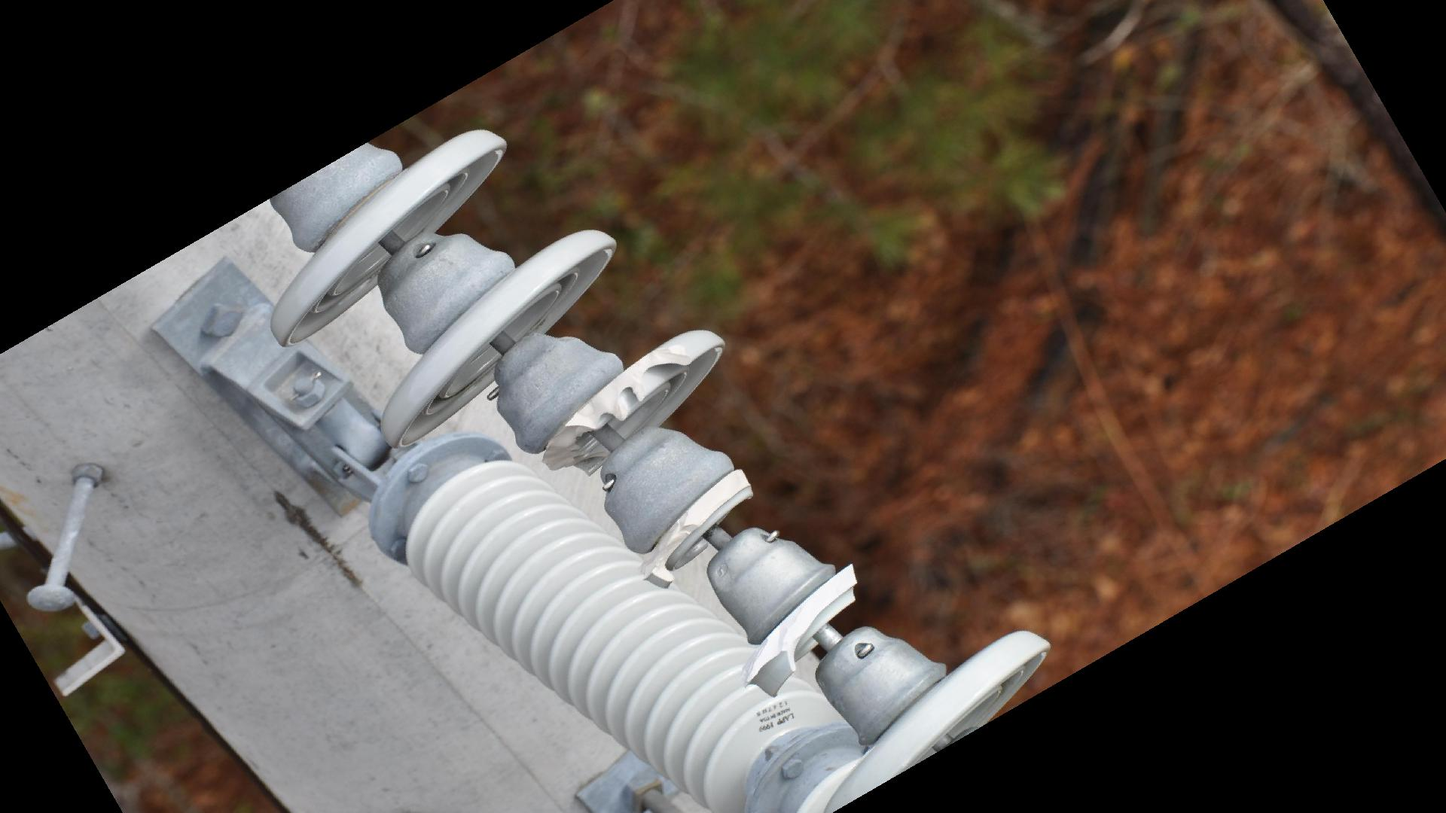insulator: (265, 123, 1057, 813), (398, 455, 838, 813)
insulator_breakage: (536, 337, 700, 478), (740, 558, 866, 699), (638, 467, 758, 589)
